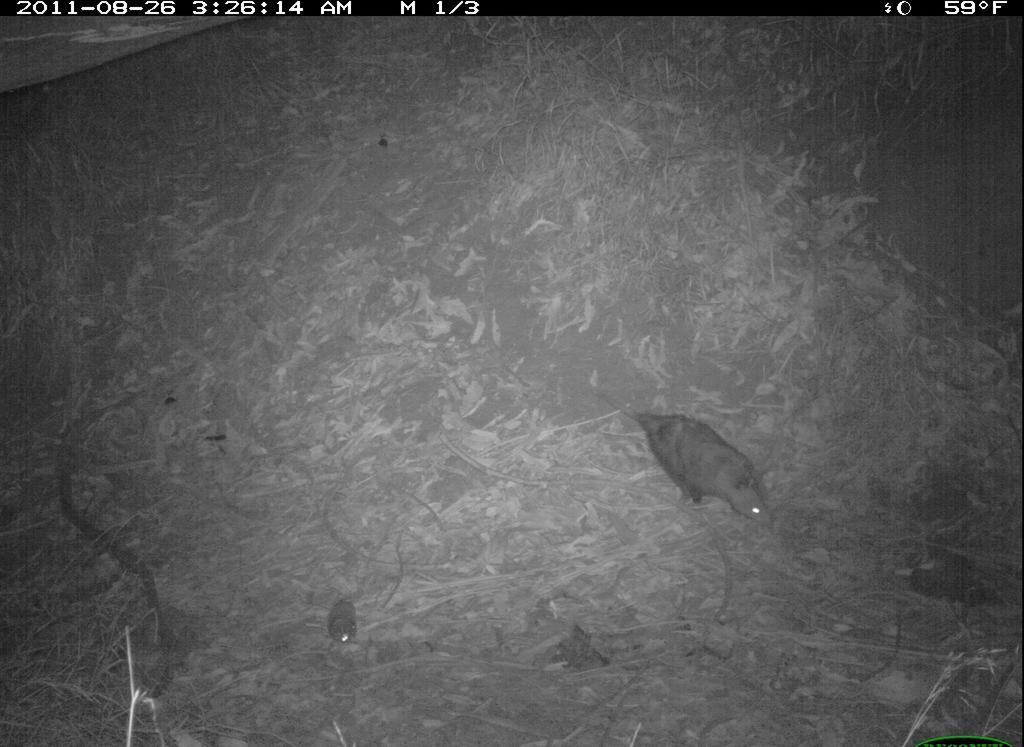opossum: (598, 382, 784, 532)
